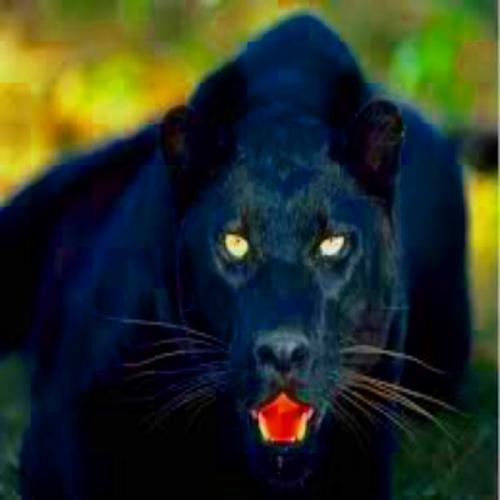panther-endangered: (0, 14, 476, 499)
